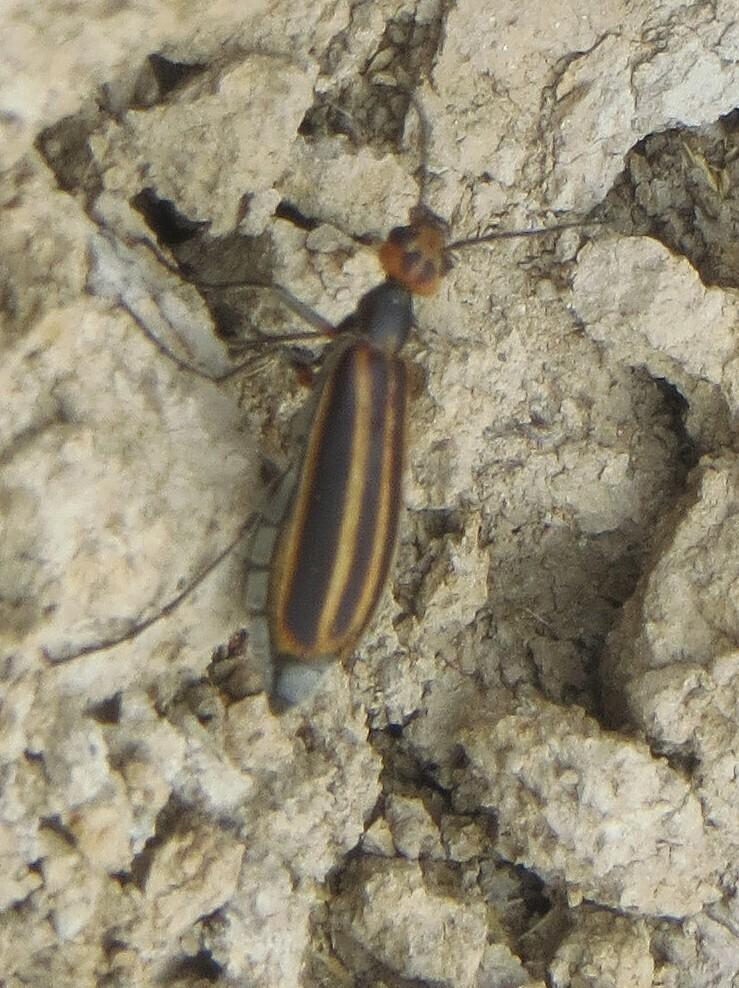blister_beetle: (26, 80, 685, 805)
